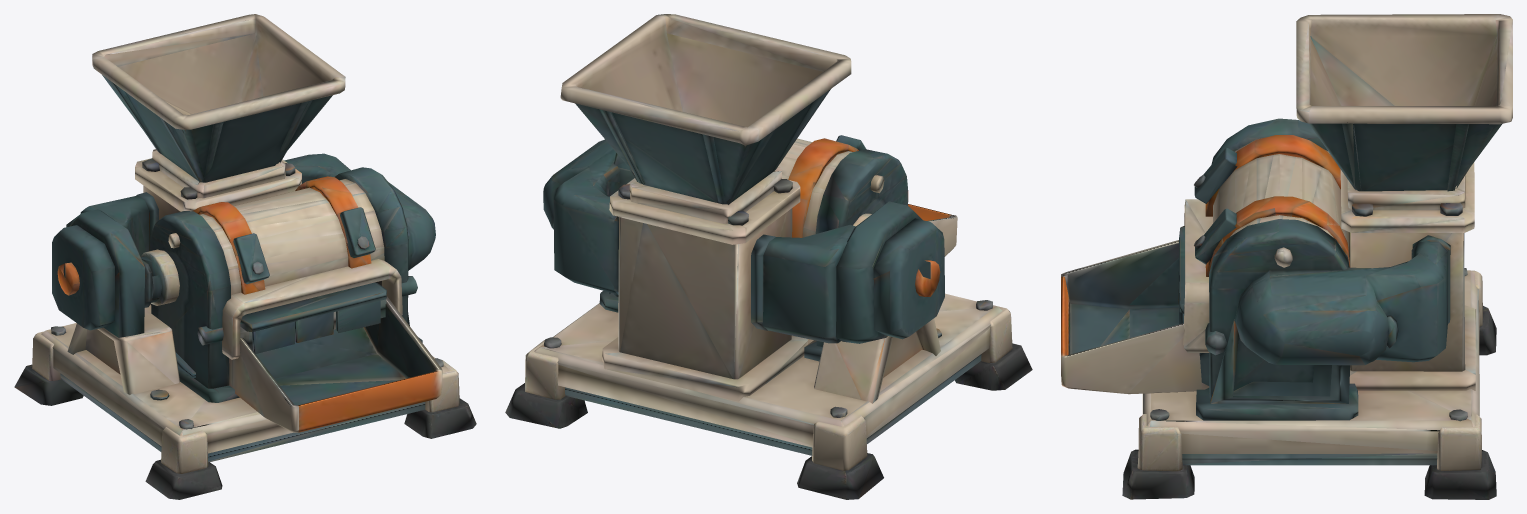
Rendered from processor-lod0.efca45bbc6bf.glb.
3 renders of one model, left to right at view 1: azimuth 30°, elevation 25°; view 2: azimuth 150°, elevation 25°; view 3: azimuth 270°, elevation 25°, orthographic. The views are drawn at different scales.
Parts seen in each view (by area): view 1: geometry_0; view 2: geometry_0; view 3: geometry_0.
Part boxes in pixels (box(x1,y1,x2,y2)): geometry_0: box(14, 14, 476, 499); geometry_0: box(505, 14, 1032, 499); geometry_0: box(1061, 14, 1512, 499).
Size of the model in its own units: 1 by 0.8761 by 1.
1 material, 1 textured.
